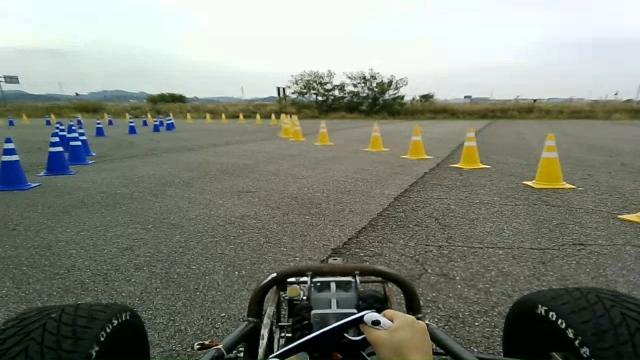blue cone: (0, 136, 41, 191), (36, 136, 76, 176), (75, 118, 96, 166)
yellow cone: (521, 133, 577, 189), (449, 127, 491, 169), (400, 124, 433, 160), (361, 120, 390, 152), (314, 119, 334, 146), (288, 114, 306, 141), (278, 113, 292, 138), (617, 211, 639, 223), (269, 112, 277, 124)
